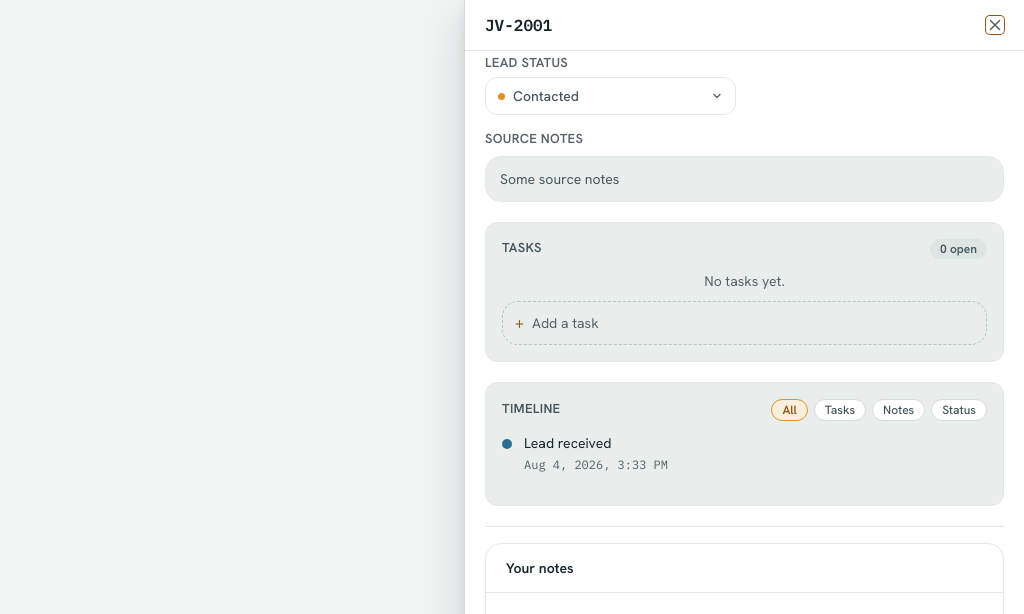
Test: C-12: the portal lead dialog has no separate Status history panel › C-12: the Status filter's empty state explains the default status
(page scrolled)
Click the button "Status" at (959, 410), box [931, 398, 987, 420]
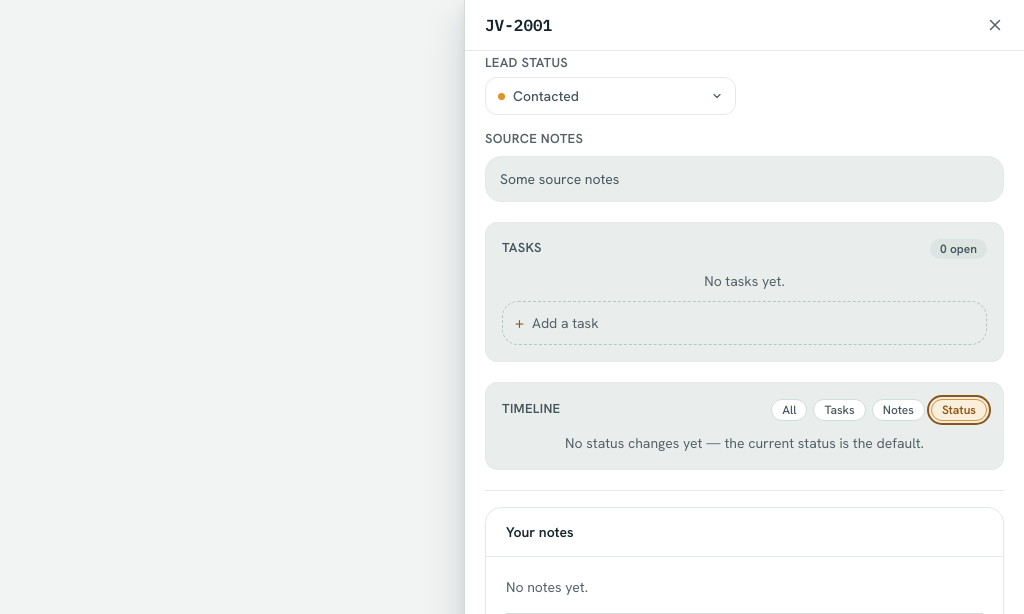
Expected: the text "No status changes yet — the current status is the default." is shown, [565, 432, 924, 452]
